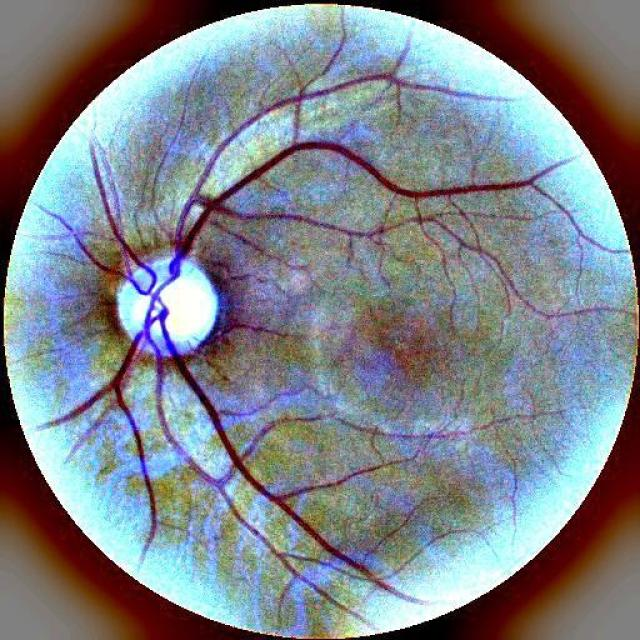Macula: (354, 316, 454, 386)
Nerves: (37, 66, 551, 563)
Optic Disk: (91, 231, 240, 387)
